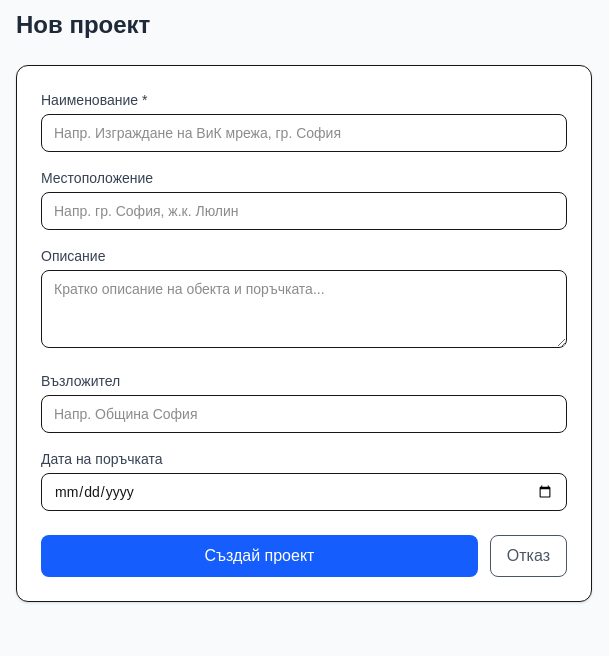
Test: NewProjectPage › shows the API error when project creation fails
In the field with placeholder "Напр. Изграждане на ВиК мрежа, гр. София": x=304, y=133 [41,114,567,152], type "Project Alpha"
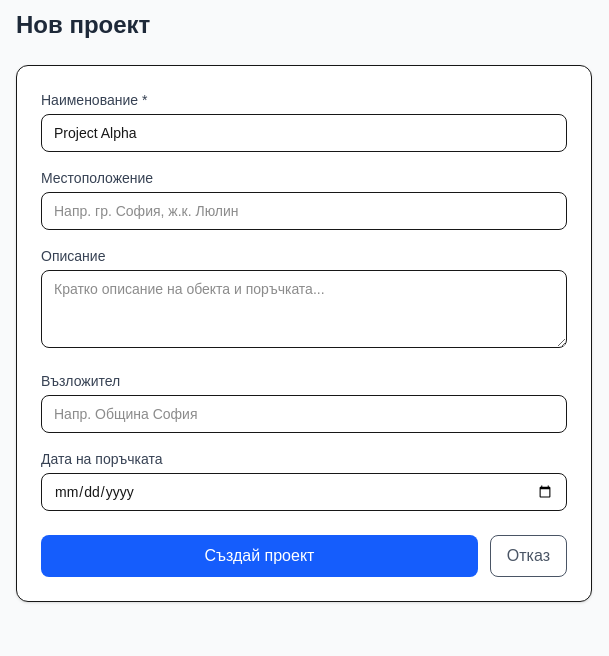
Submit the form
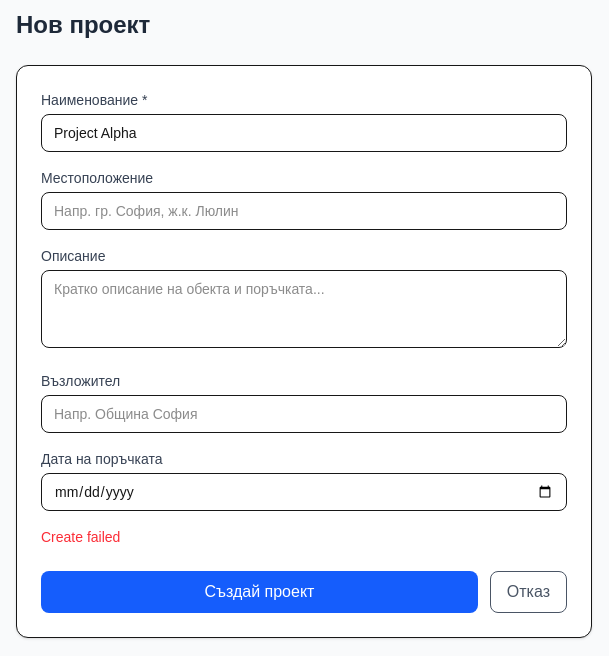
Expected: the text "Create failed" is shown, [41,529,120,545]
